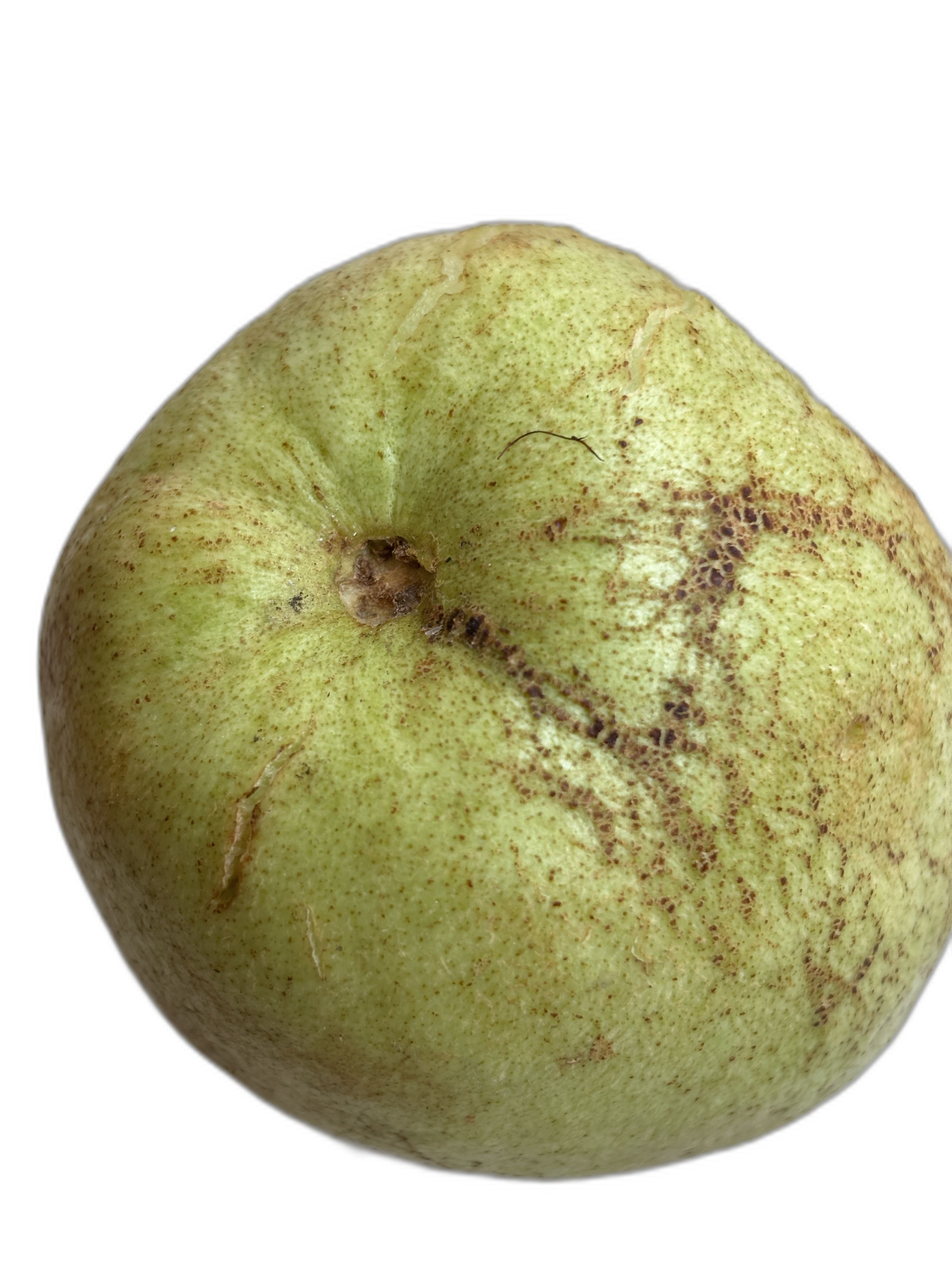guava: (244, 71, 887, 1146)
